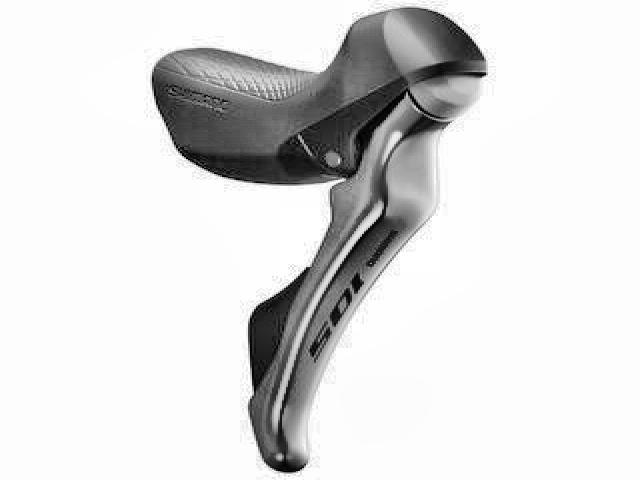sti_shifter: (151, 2, 489, 476)
